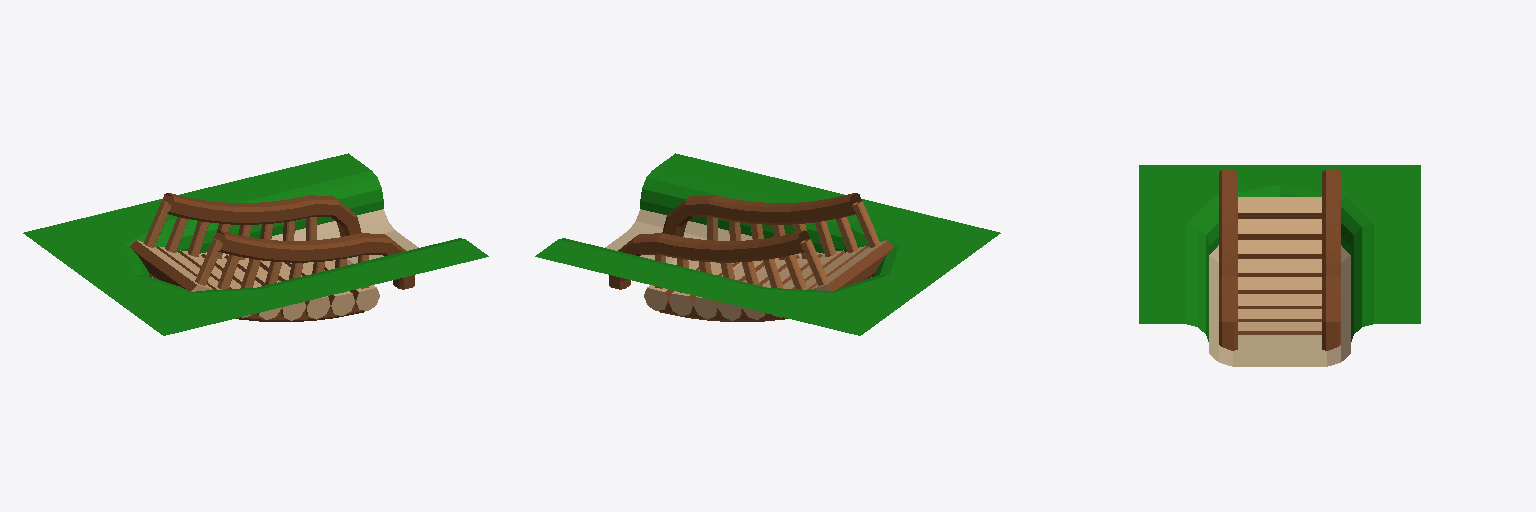
File: Track_Bridge_Start_Flat_to_Gentle.obj
The picture shows the model from 3 angles: view 1: azimuth 30°, elevation 25°; view 2: azimuth 150°, elevation 25°; view 3: azimuth 270°, elevation 25°; orthographic projection.
Parts seen in each view (by area): view 1: Grass, Bridge_Rail, Bridge_Rail_Support, Log_Plank_Top, Log_Plank_Bark, Log_Plank_End, Dirt, Bridge_Support_Beam; view 2: Grass, Bridge_Rail, Bridge_Rail_Support, Log_Plank_Top, Log_Plank_Bark, Log_Plank_End, Dirt, Bridge_Support_Beam; view 3: Grass, Log_Plank_Top, Bridge_Rail, Dirt, Log_Plank_Bark.
Boxes of the visible parts, <box> form: Grass: <box>23,153,488,335</box>; Bridge_Rail: <box>162,193,414,289</box>; Bridge_Rail_Support: <box>143,201,368,292</box>; Log_Plank_Top: <box>137,240,376,297</box>; Log_Plank_Bark: <box>130,240,358,316</box>; Log_Plank_End: <box>191,285,379,320</box>; Dirt: <box>152,209,418,277</box>; Bridge_Support_Beam: <box>149,274,364,321</box>; Grass: <box>535,153,1000,335</box>; Bridge_Rail: <box>609,193,861,289</box>; Bridge_Rail_Support: <box>655,201,880,292</box>; Log_Plank_Top: <box>647,240,886,297</box>; Log_Plank_Bark: <box>665,240,893,316</box>; Log_Plank_End: <box>644,285,832,320</box>; Dirt: <box>605,209,871,277</box>; Bridge_Support_Beam: <box>659,274,874,321</box>; Grass: <box>1139,165,1420,341</box>; Log_Plank_Top: <box>1238,197,1321,330</box>; Bridge_Rail: <box>1219,170,1340,350</box>; Dirt: <box>1209,245,1350,366</box>; Log_Plank_Bark: <box>1238,213,1321,334</box>.
Bounding box in the file's own units: 4 × 1.34 × 3.